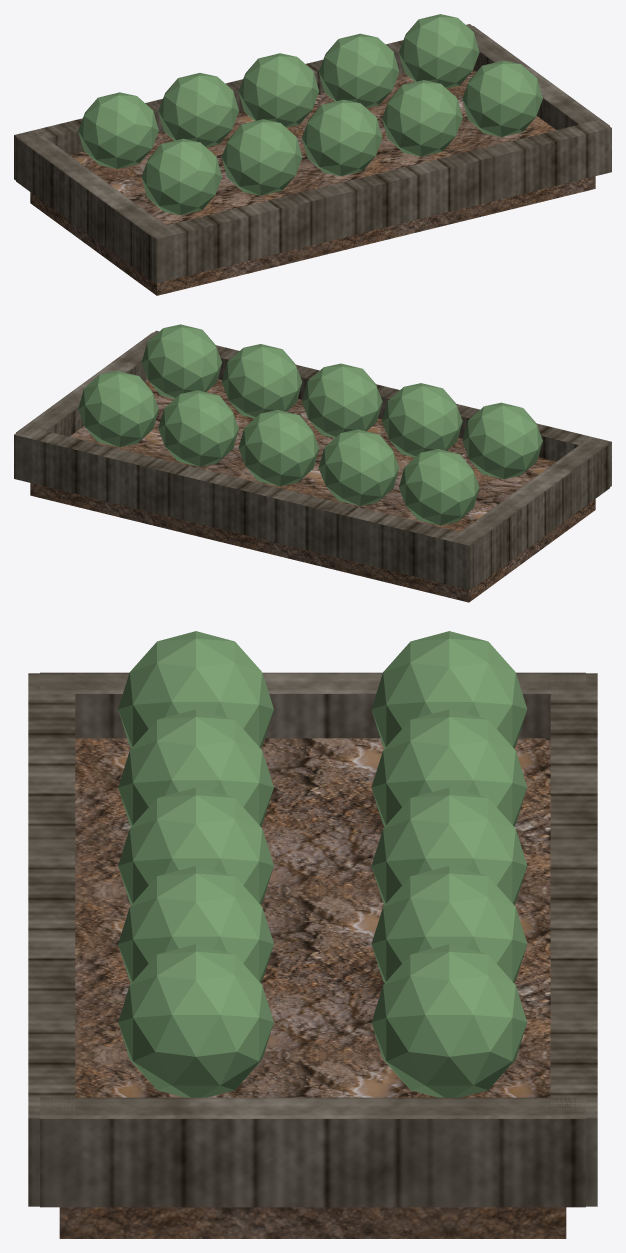
Rendered from gemuesebeet_kohl.glb.
3 renders of one model, top to bottom at view 1: azimuth 30°, elevation 25°; view 2: azimuth 150°, elevation 25°; view 3: azimuth 270°, elevation 25°, orthographic. The views are drawn at different scales.
Parts seen in each view (by area): view 1: gemuesebeet_kohl_002, gemuesebeet_kohl_000, gemuesebeet_kohl_003, gemuesebeet_kohl_014, gemuesebeet_kohl_008, gemuesebeet_kohl_006, gemuesebeet_kohl_010, gemuesebeet_kohl_012, gemuesebeet_kohl_005, gemuesebeet_kohl_009, gemuesebeet_kohl_011, gemuesebeet_kohl_007 (+3 smaller); view 2: gemuesebeet_kohl_001, gemuesebeet_kohl_000, gemuesebeet_kohl_003, gemuesebeet_kohl_005, gemuesebeet_kohl_006, gemuesebeet_kohl_011, gemuesebeet_kohl_007, gemuesebeet_kohl_013, gemuesebeet_kohl_009, gemuesebeet_kohl_010, gemuesebeet_kohl_014, gemuesebeet_kohl_008 (+3 smaller); view 3: gemuesebeet_kohl_000, gemuesebeet_kohl_004, gemuesebeet_kohl_001, gemuesebeet_kohl_002, gemuesebeet_kohl_014, gemuesebeet_kohl_013, gemuesebeet_kohl_003, gemuesebeet_kohl_006, gemuesebeet_kohl_010, gemuesebeet_kohl_008, gemuesebeet_kohl_009, gemuesebeet_kohl_005 (+3 smaller).
Boxes of the visible parts, <box> form: gemuesebeet_kohl_002: <box>145,119,611,283</box>; gemuesebeet_kohl_000: <box>30,69,595,295</box>; gemuesebeet_kohl_003: <box>16,132,173,281</box>; gemuesebeet_kohl_014: <box>462,60,542,136</box>; gemuesebeet_kohl_008: <box>221,119,302,195</box>; gemuesebeet_kohl_006: <box>141,138,222,215</box>; gemuesebeet_kohl_010: <box>302,99,382,176</box>; gemuesebeet_kohl_012: <box>382,80,462,156</box>; gemuesebeet_kohl_005: <box>78,92,158,168</box>; gemuesebeet_kohl_009: <box>238,53,319,127</box>; gemuesebeet_kohl_011: <box>318,33,399,108</box>; gemuesebeet_kohl_007: <box>158,73,238,147</box>; gemuesebeet_kohl_001: <box>14,426,480,589</box>; gemuesebeet_kohl_000: <box>30,379,595,602</box>; gemuesebeet_kohl_003: <box>452,439,609,587</box>; gemuesebeet_kohl_005: <box>399,449,479,525</box>; gemuesebeet_kohl_006: <box>462,402,542,479</box>; gemuesebeet_kohl_011: <box>158,390,238,466</box>; gemuesebeet_kohl_007: <box>318,429,399,505</box>; gemuesebeet_kohl_013: <box>78,370,158,447</box>; gemuesebeet_kohl_009: <box>238,410,319,486</box>; gemuesebeet_kohl_010: <box>302,363,382,437</box>; gemuesebeet_kohl_014: <box>141,324,222,398</box>; gemuesebeet_kohl_008: <box>382,383,462,457</box>; gemuesebeet_kohl_000: <box>59,738,566,1238</box>; gemuesebeet_kohl_004: <box>40,1097,585,1207</box>; gemuesebeet_kohl_001: <box>550,673,597,1206</box>; gemuesebeet_kohl_002: <box>28,673,75,1206</box>; gemuesebeet_kohl_014: <box>118,944,273,1097</box>; gemuesebeet_kohl_013: <box>371,944,527,1097</box>; gemuesebeet_kohl_003: <box>40,672,585,738</box>; gemuesebeet_kohl_006: <box>118,631,273,748</box>; gemuesebeet_kohl_010: <box>118,787,273,904</box>; gemuesebeet_kohl_008: <box>118,709,273,826</box>; gemuesebeet_kohl_009: <box>371,787,527,904</box>; gemuesebeet_kohl_005: <box>371,631,527,747</box>.
Bounding box in the file's own units: 2.71 × 0.65 × 1.46.
2 materials, 2 textured.
